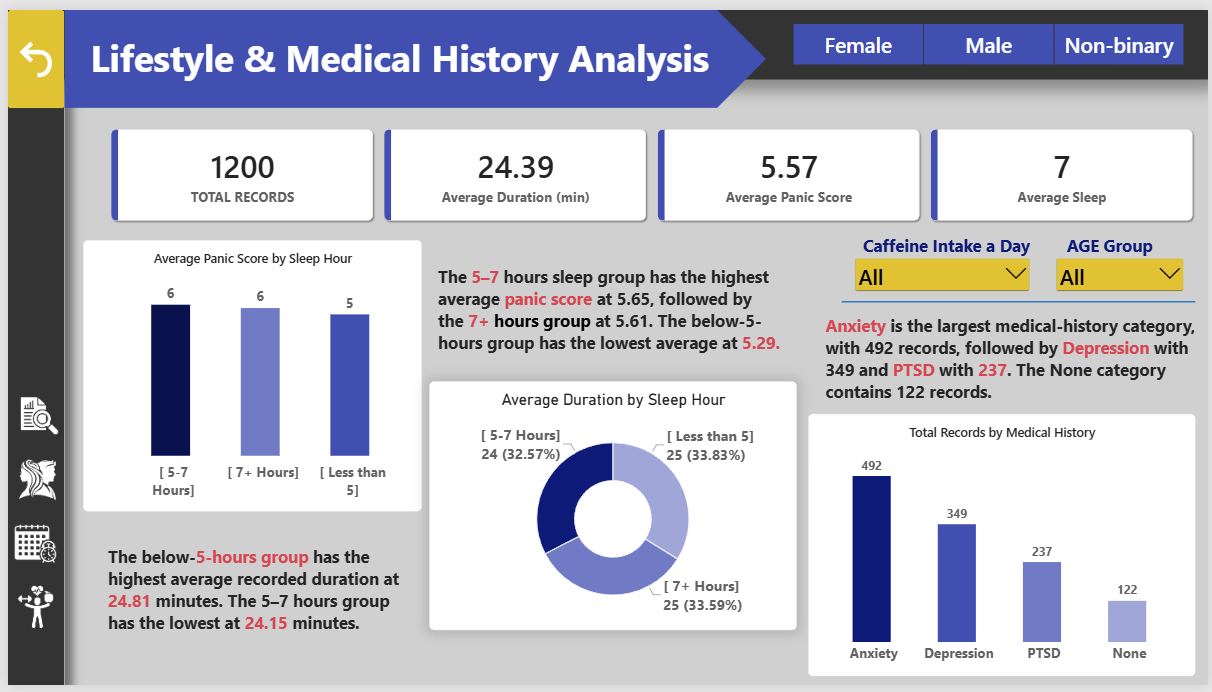

Layout of this report page (visuals, bound fields, positions):
{"tool":"powerbi","page":{"name":"Sleep Hour & Medical History","canvas":[1920,1080],"ordinal":3},"visuals":[{"type":"shape","box":[0,0,90,1080],"z":0},{"type":"shape","box":[55,0,1865,111.2],"z":1000},{"type":"shape","box":[1334.4,437.8,565.6,57.8],"z":2000},{"type":"cardVisual","fields":{"Data":["MEASURABLE_TABLE.TOTAL RECORDS","MEASURABLE_TABLE.AVG_DURATION","MEASURABLE_TABLE.AVG_PANIC_SCORE","MEASURABLE_TABLE.Average Sleep"]},"box":[160,185,1740,156],"z":3000},{"type":"clusteredColumnChart","title":"Total Records by Medical History","fields":{"Category":["PANIC_ATTACK_DATA.MEDICAL_HISTORY"],"Y":["MEASURABLE_TABLE.TOTAL RECORDS"]},"box":[1280,646,620,420],"z":4000},{"type":"slicer","fields":{"Values":["PANIC_ATTACK_DATA.GENDER"]},"box":[1235,20,664.2,69.2],"z":5000},{"type":"slicer","fields":{"Values":["PANIC_ATTACK_DATA.CAFFEINE_INTAKE"]},"box":[1350,392.2,290,92],"z":6000},{"type":"slicer","fields":{"Values":["PANIC_ATTACK_DATA.AGE_GROUP"]},"box":[1671.1,392.2,214,66],"z":7000},{"type":"textbox","box":[1693.3,357.8,176,44],"z":8000},{"type":"textbox","box":[1367.8,357.8,326,49],"z":9000},{"type":"textbox","box":[1308,486,592,160],"z":10000},{"type":"shape","box":[90,0,1123.3,156.7],"z":11000},{"type":"textbox","box":[132.5,35,1040,90],"z":12000},{"type":"columnChart","title":"Average Panic Score by Sleep Hour","fields":{"Category":["PANIC_ATTACK_DATA.Sleep Hour Group"],"Y":["MEASURABLE_TABLE.AVG_PANIC_SCORE"]},"box":[120,368,542,434],"z":13000},{"type":"actionButton","box":[0,0,90,157.5],"z":14000},{"type":"donutChart","title":"Average Duration by Sleep Hour","fields":{"Category":["PANIC_ATTACK_DATA.Sleep Hour Group"],"Y":["MEASURABLE_TABLE.AVG_DURATION"]},"box":[674,594,588,398],"z":15000},{"type":"textbox","box":[688,408,548,186],"z":16000},{"type":"image","box":[2,698,90,102],"z":16000,"group":"g1"},{"type":"image","box":[2,600,90,102],"z":17000,"group":"g1"},{"type":"textbox","box":[160,856,484,160],"z":17000},{"type":"group","id":"g1","title":"Group 1","box":[0,600,92,404],"z":17001},{"type":"image","box":[0,800,90,102],"z":18000,"group":"g1"},{"type":"image","box":[0,902,90,102],"z":19000,"group":"g1"}]}

Visuals, with their boxes on the page's 1920x1080 design canvas (x1, y1, x2, y2). These are canvas units, not pixel positions in the 1212x692 screenshot, which may show the page scaled, cropped or inside an application window:
shape: bbox=[0, 0, 90, 1080]
shape: bbox=[55, 0, 1920, 111]
shape: bbox=[1334, 438, 1900, 496]
cardVisual - MEASURABLE_TABLE.TOTAL RECORDS x MEASURABLE_TABLE.AVG_DURATION: bbox=[160, 185, 1900, 341]
"Total Records by Medical History" clusteredColumnChart: bbox=[1280, 646, 1900, 1066]
slicer - PANIC_ATTACK_DATA.GENDER: bbox=[1235, 20, 1899, 89]
slicer - PANIC_ATTACK_DATA.CAFFEINE_INTAKE: bbox=[1350, 392, 1640, 484]
slicer - PANIC_ATTACK_DATA.AGE_GROUP: bbox=[1671, 392, 1885, 458]
textbox: bbox=[1693, 358, 1869, 402]
textbox: bbox=[1368, 358, 1694, 407]
textbox: bbox=[1308, 486, 1900, 646]
shape: bbox=[90, 0, 1213, 157]
textbox: bbox=[132, 35, 1172, 125]
"Average Panic Score by Sleep Hour" columnChart: bbox=[120, 368, 662, 802]
actionButton: bbox=[0, 0, 90, 158]
"Average Duration by Sleep Hour" donutChart: bbox=[674, 594, 1262, 992]
textbox: bbox=[688, 408, 1236, 594]
image: bbox=[2, 698, 92, 800]
image: bbox=[2, 600, 92, 702]
textbox: bbox=[160, 856, 644, 1016]
"Group 1" group: bbox=[0, 600, 92, 1004]
image: bbox=[0, 800, 90, 902]
image: bbox=[0, 902, 90, 1004]
